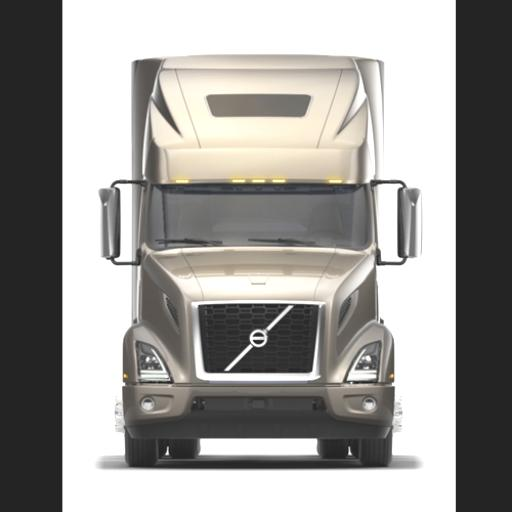truck: (94, 56, 422, 468)
